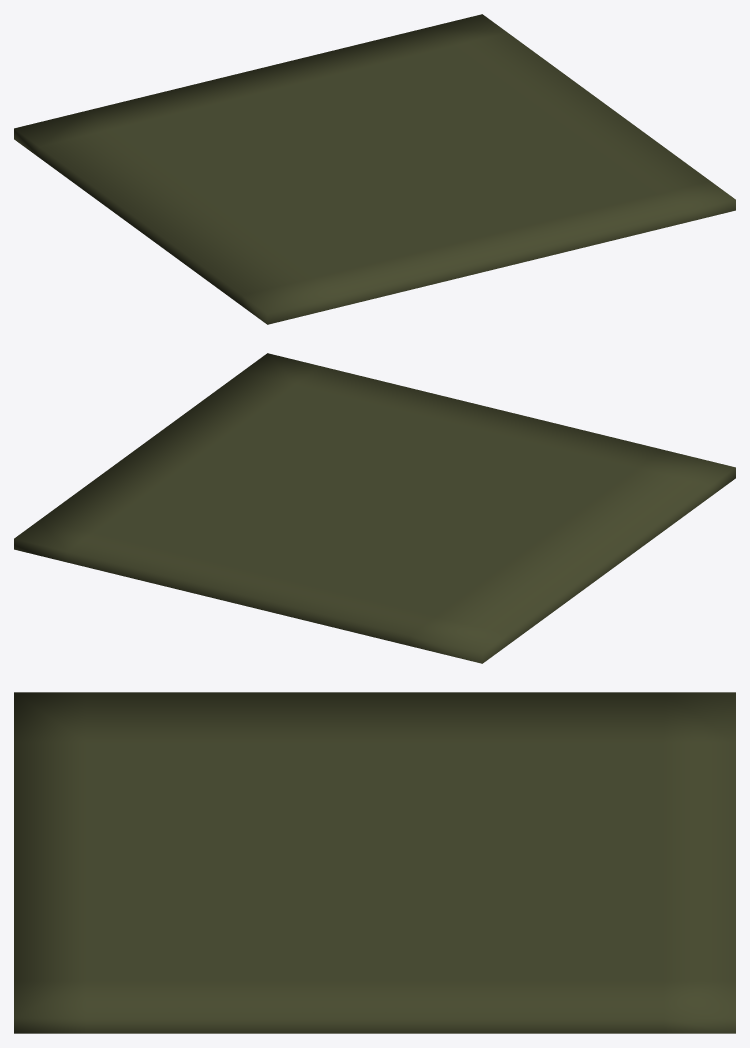
File: Piso_new.fbx
3 views of the same model, one above another, from view 1: azimuth 30°, elevation 25°; view 2: azimuth 150°, elevation 25°; view 3: azimuth 270°, elevation 25° (orthographic). The views are drawn at different scales.
Parts seen in each view (by area): view 1: Piso; view 2: Piso; view 3: Piso.
Boxes of the visible parts, bbox=[...] form: Piso: bbox=[14, 14, 735, 324]; Piso: bbox=[14, 353, 735, 663]; Piso: bbox=[14, 692, 735, 1033].
Size of the model in its own units: 65481 by 1448 by 61366.
